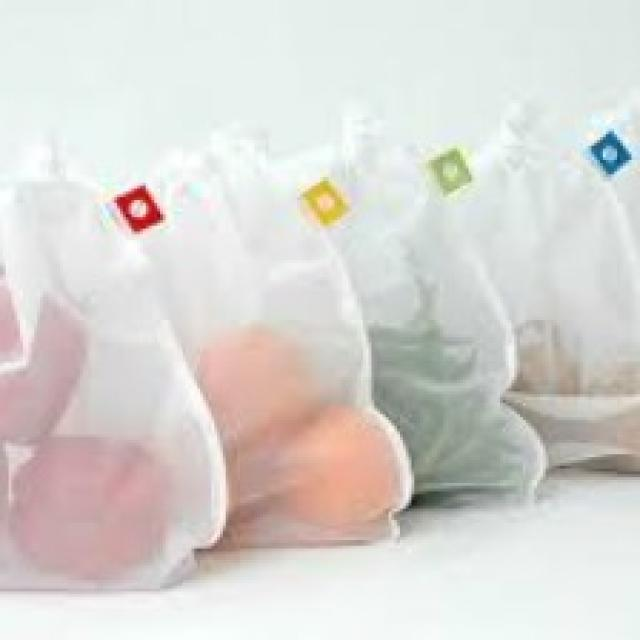plastic_bag: (3, 161, 228, 600), (194, 143, 403, 550), (354, 128, 548, 492), (539, 125, 638, 470)
